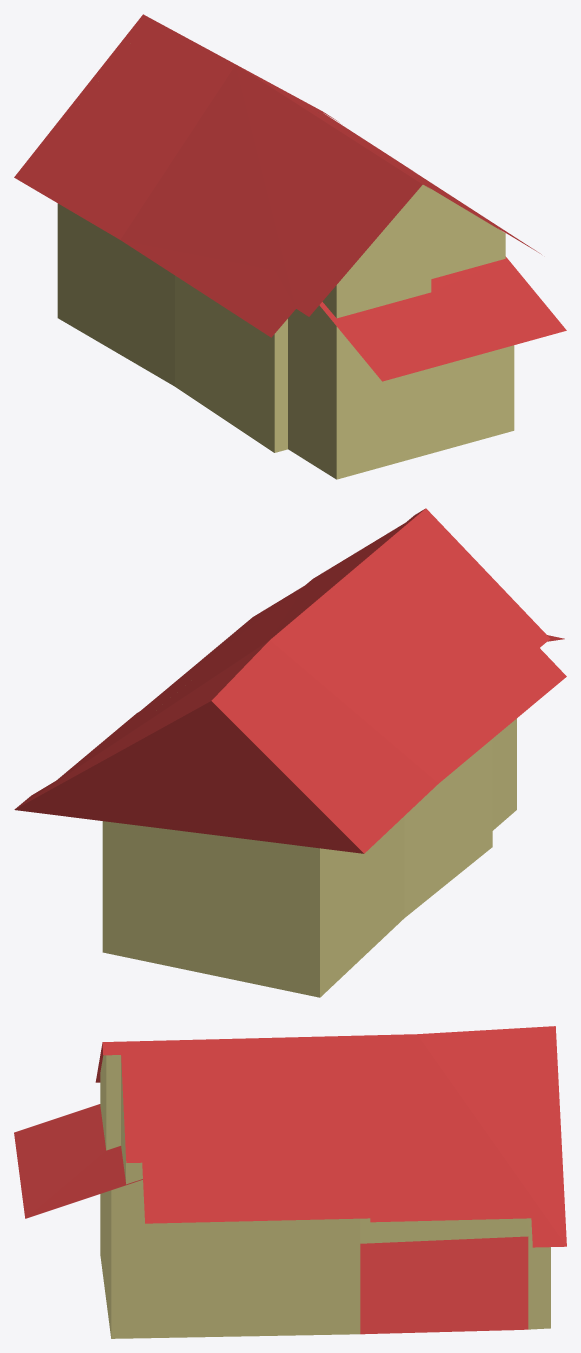
The picture shows the model from 3 angles, top to bottom: view 1: azimuth 30°, elevation 25°; view 2: azimuth 150°, elevation 25°; view 3: azimuth 270°, elevation 25°; orthographic projection. The views are drawn at different scales.
Bounding box in the file's own units: 17.48 × 27.62 × 13.96.
